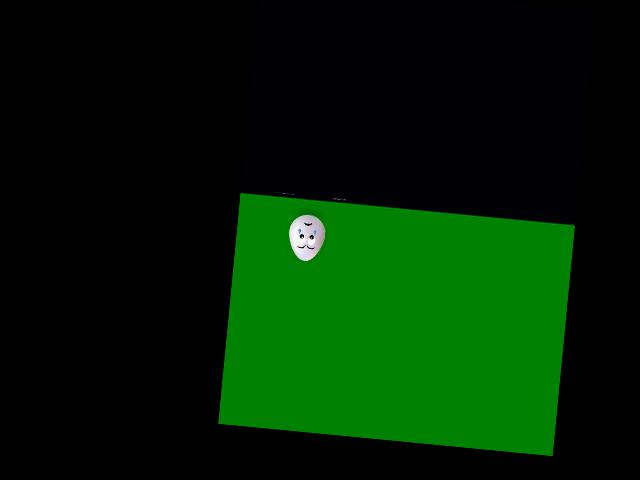egg: (286, 213, 326, 262)
